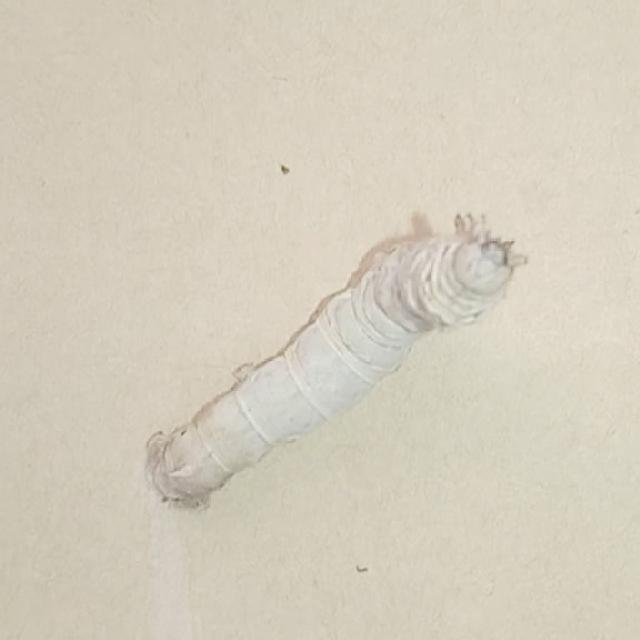Grasserie: (131, 195, 526, 524)
